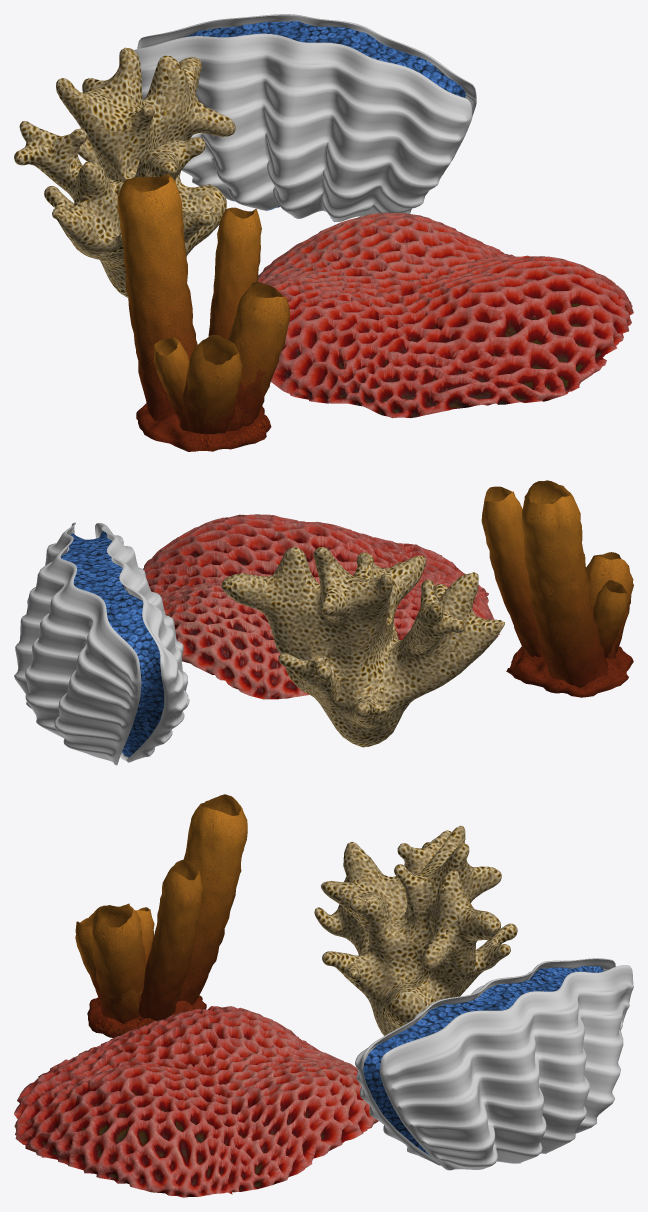
3 views of the same model, one above another, from view 1: azimuth 30°, elevation 25°; view 2: azimuth 150°, elevation 25°; view 3: azimuth 270°, elevation 25° (orthographic). The views are drawn at different scales.
Parts seen in each view (by area): view 1: coral_2, coral_4, coral_3, coral_1; view 2: coral_1, coral_4, coral_2, coral_3; view 3: coral_2, coral_4, coral_1, coral_3.
Part boxes in pixels (bbox=[...]): coral_2: bbox=[258, 212, 633, 418]; coral_4: bbox=[134, 14, 476, 221]; coral_3: bbox=[117, 174, 289, 451]; coral_1: bbox=[14, 47, 235, 297]; coral_1: bbox=[221, 547, 504, 747]; coral_4: bbox=[14, 522, 189, 765]; coral_2: bbox=[143, 514, 499, 699]; coral_3: bbox=[481, 480, 633, 697]; coral_2: bbox=[14, 1006, 378, 1197]; coral_4: bbox=[355, 958, 633, 1170]; coral_1: bbox=[314, 825, 517, 1035]; coral_3: bbox=[75, 794, 247, 1037].
Bounding box in the file's own units: 3.16 × 1.43 × 3.75.
